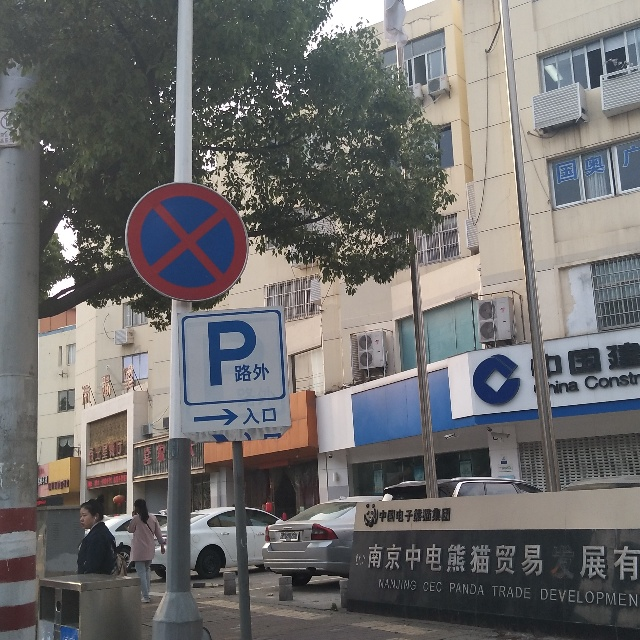stop: (134, 187, 237, 291)
